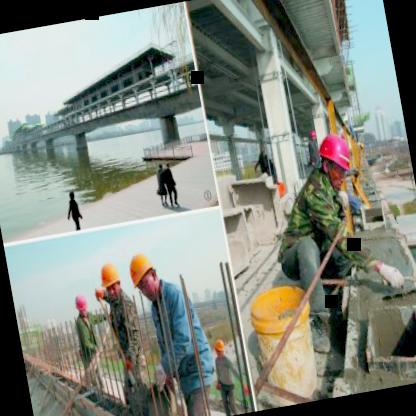helmet: (312, 127, 358, 193), (124, 245, 162, 303), (96, 258, 126, 306), (68, 289, 92, 319), (210, 335, 230, 362)
